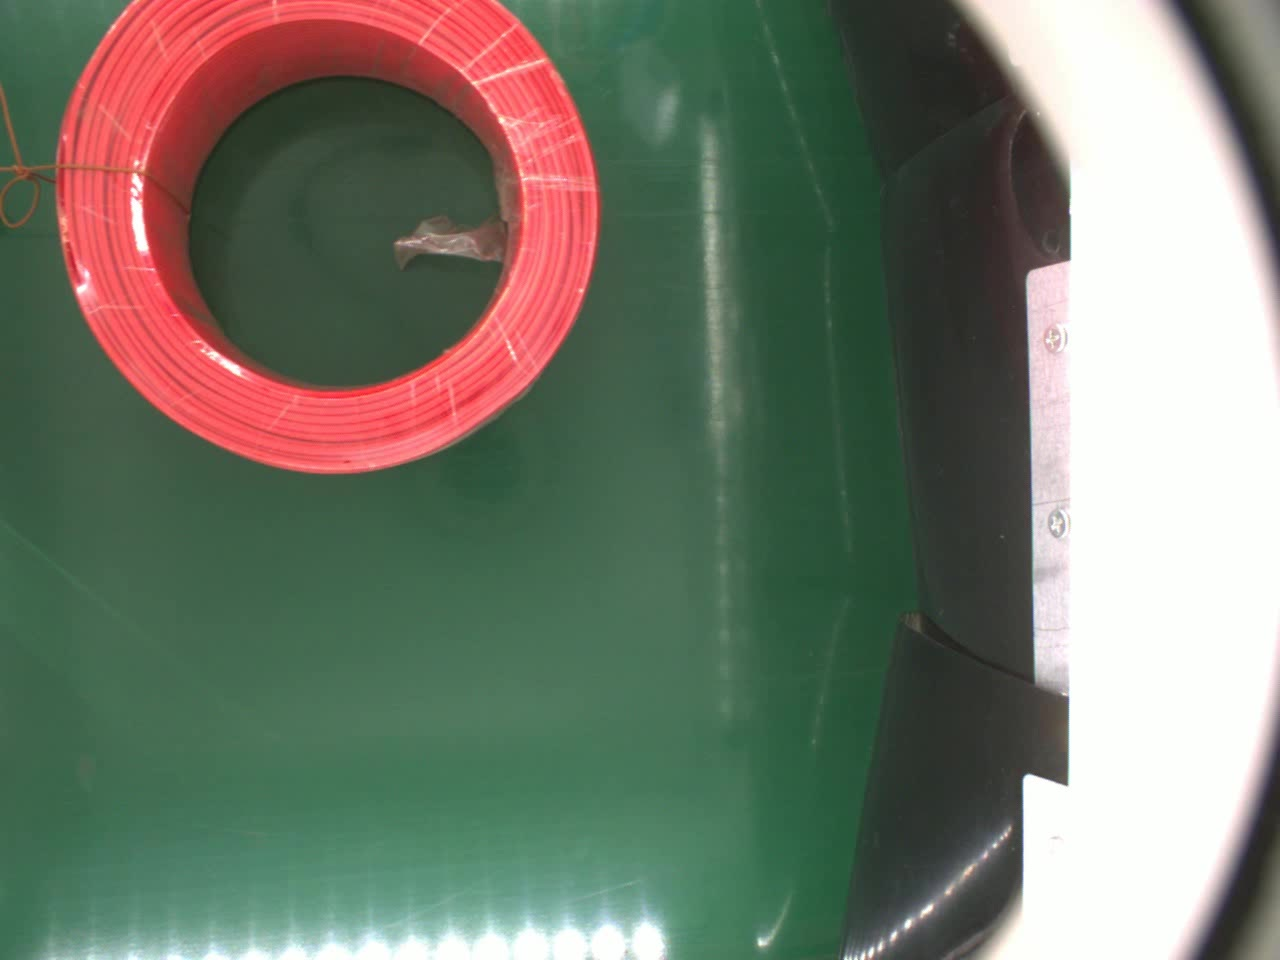red: (53, 0, 605, 478)
